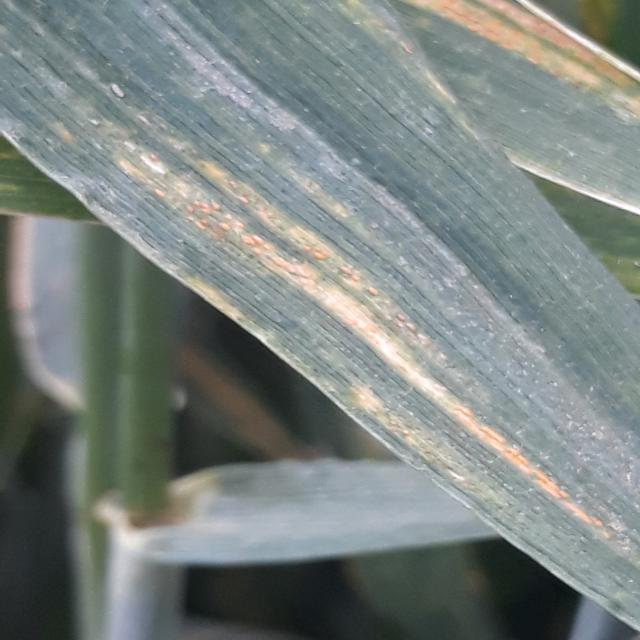yellow_rust: (17, 6, 632, 617)
